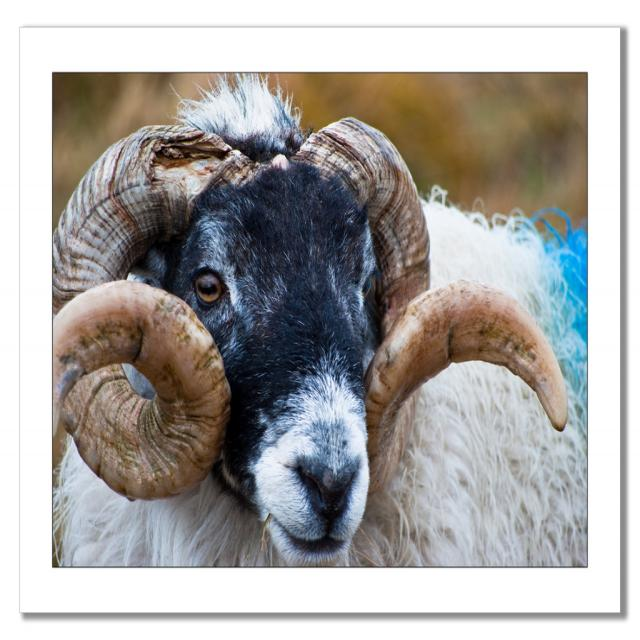Sheep: (39, 62, 608, 578)
